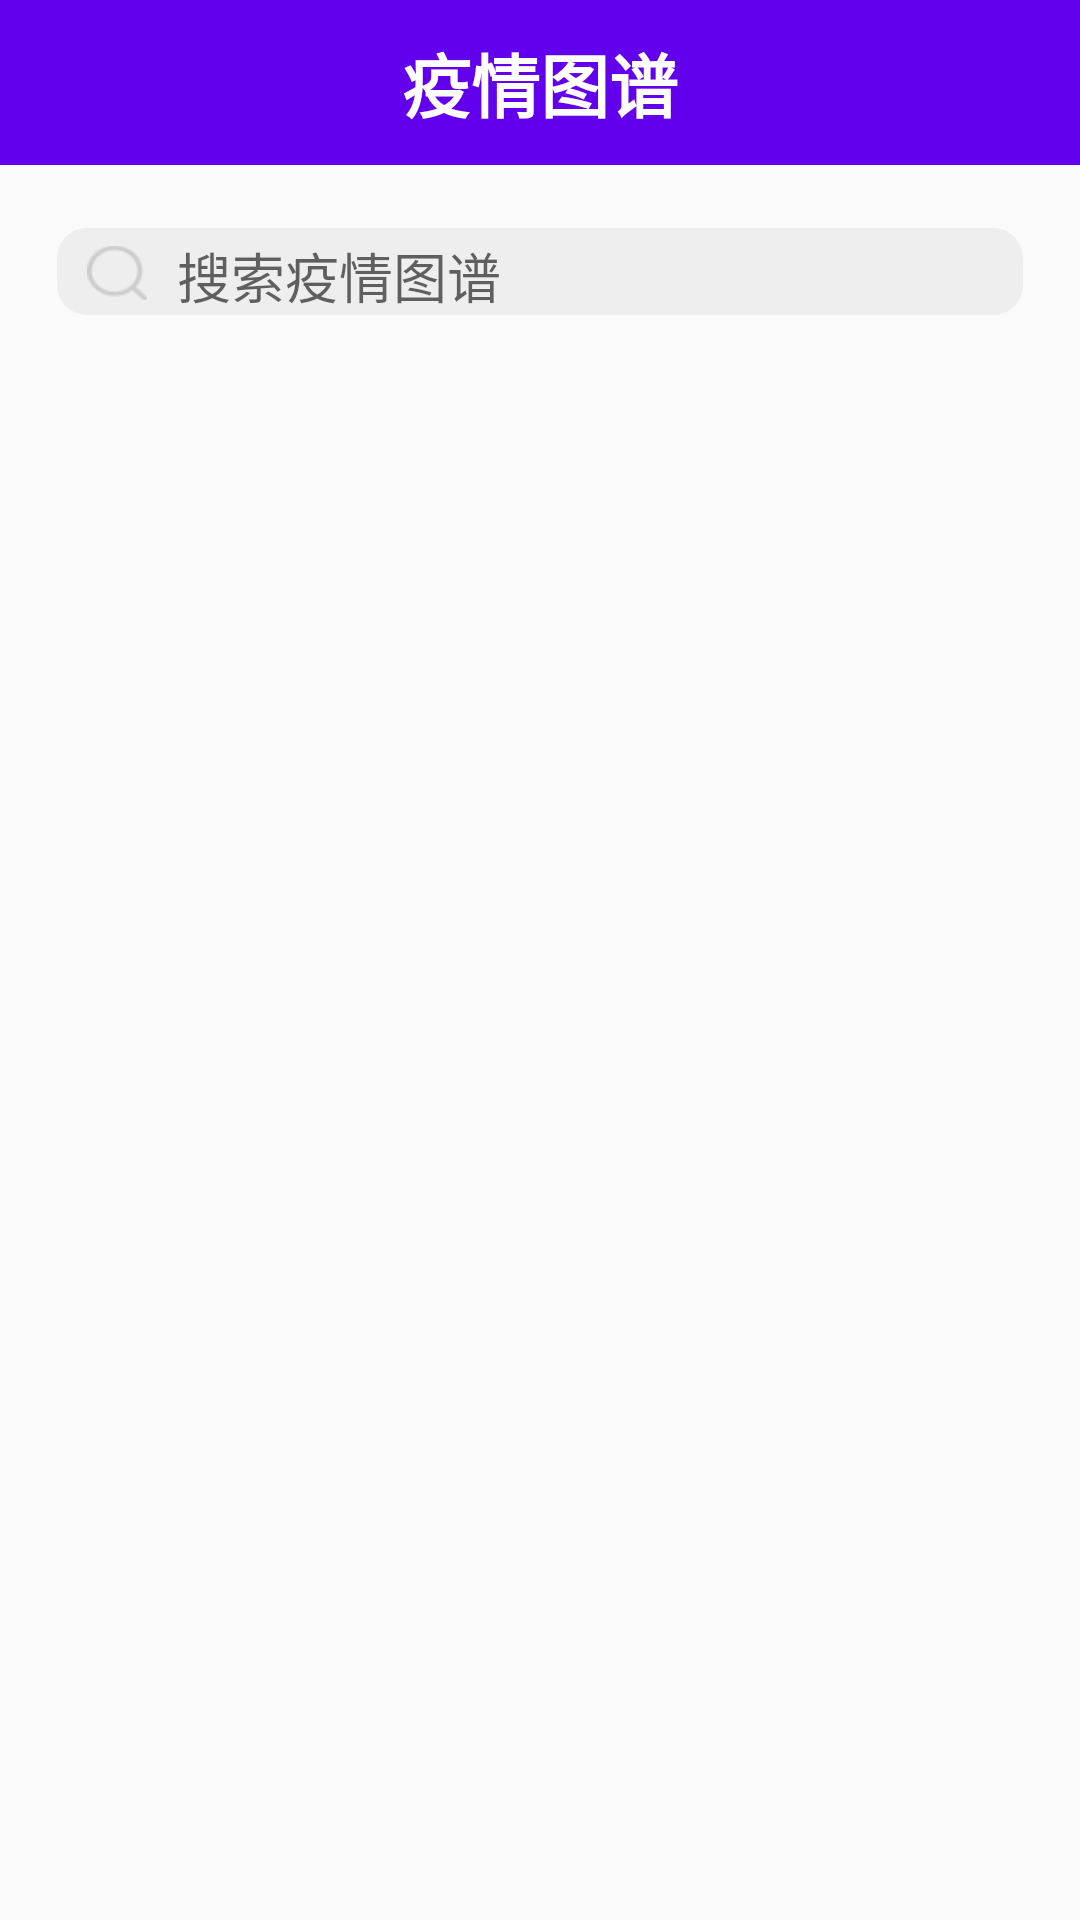

Icons on this 1080px x 1920px Android screen, each with the point to tap as (x,y):
search: (117,273)
